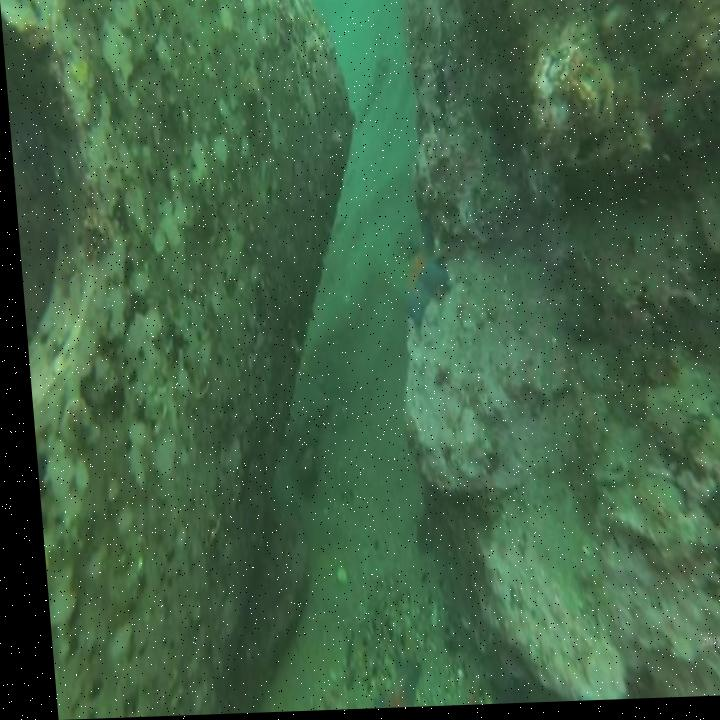starfish: (389, 244, 451, 332)
